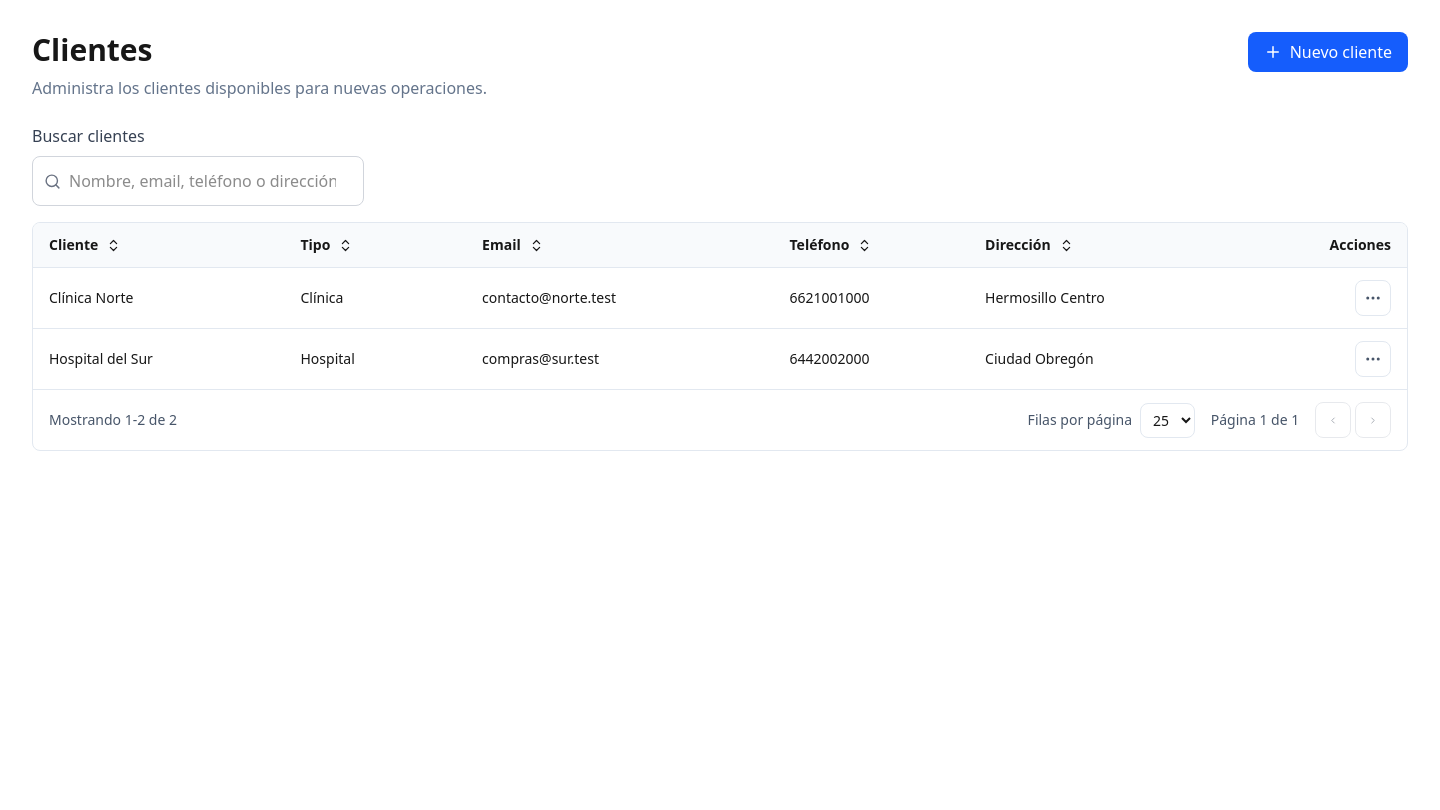
Test case: CustomersPage › conserva el cliente y permite reintentar cuando falla la desactivación
Expected: the text "Clínica Norte" is shown, top-left (33, 268), bottom-right (284, 328)
Click the button named "Acciones del cliente Clínica Norte". click: (1373,298)
box: top-left (1355, 280), bottom-right (1391, 316)
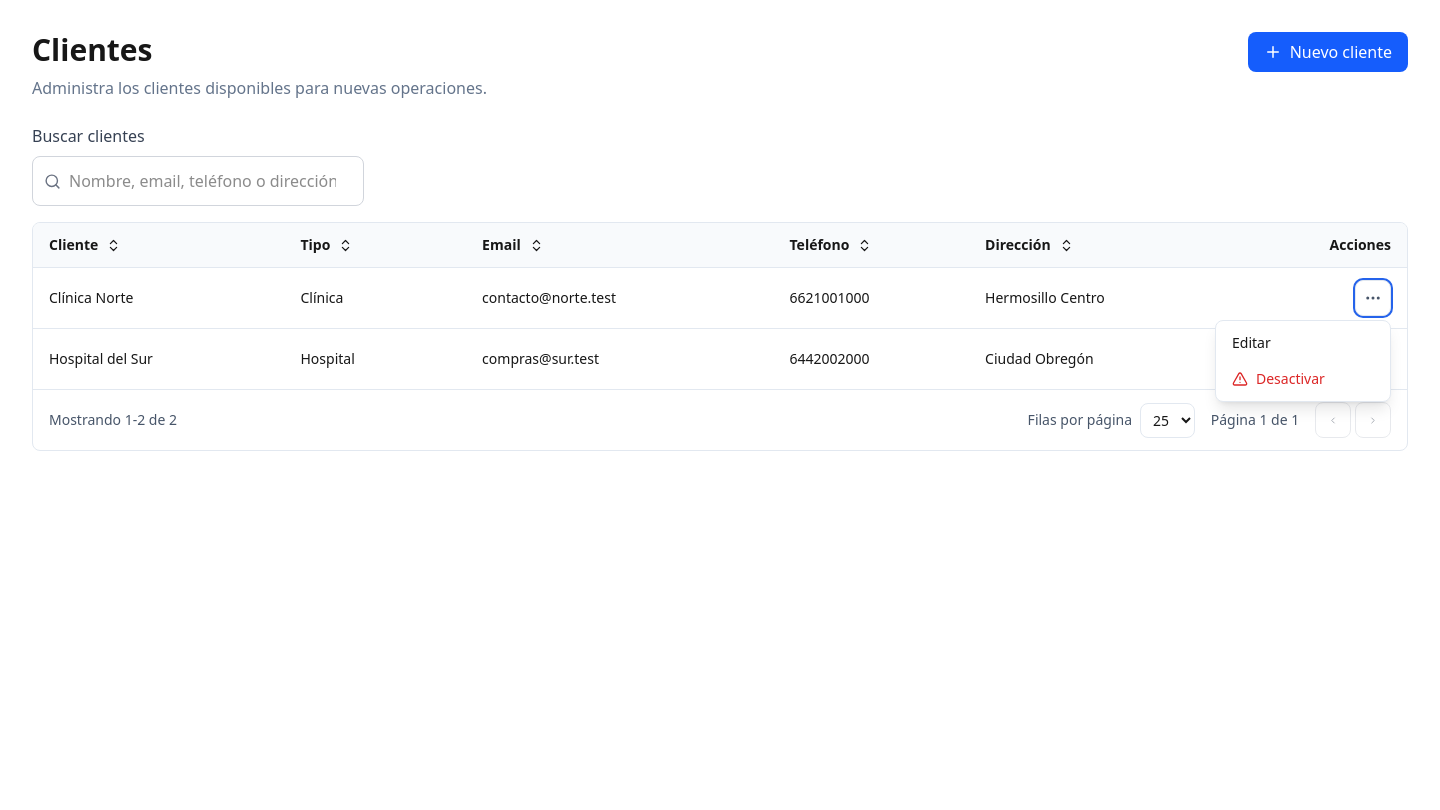
Click the menu item with aria-label "Acción destructiva: Desactivar". click: (1303,379)
box: top-left (1220, 361), bottom-right (1386, 397)
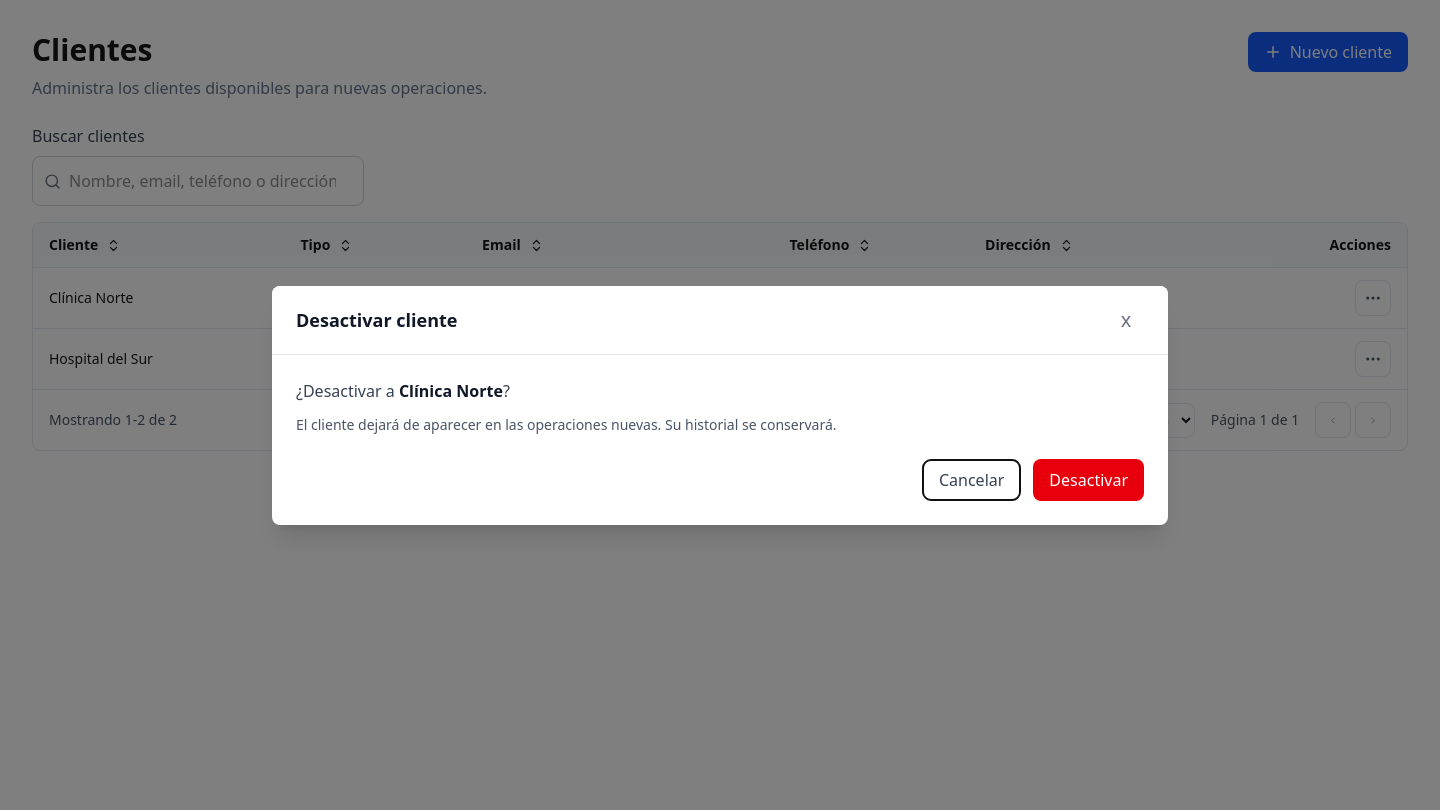
Click the button "Desactivar". click: (1089,480)
box: top-left (1033, 458), bottom-right (1144, 500)
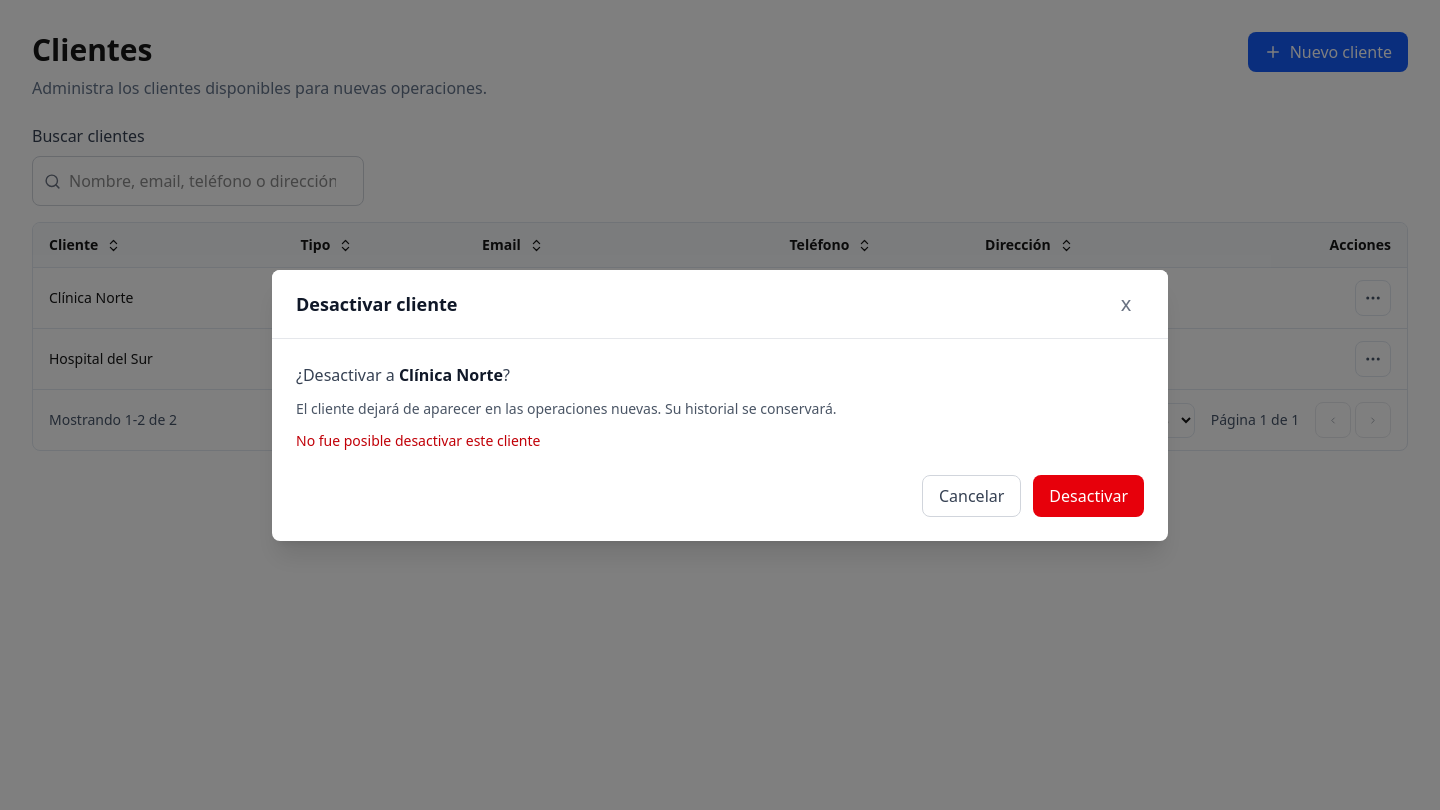
Expected: the text "Clínica Norte" is shown, top-left (33, 268), bottom-right (284, 328)
Expected: the text "No fue posible desactivar este cliente" is shown, top-left (296, 430), bottom-right (540, 450)
